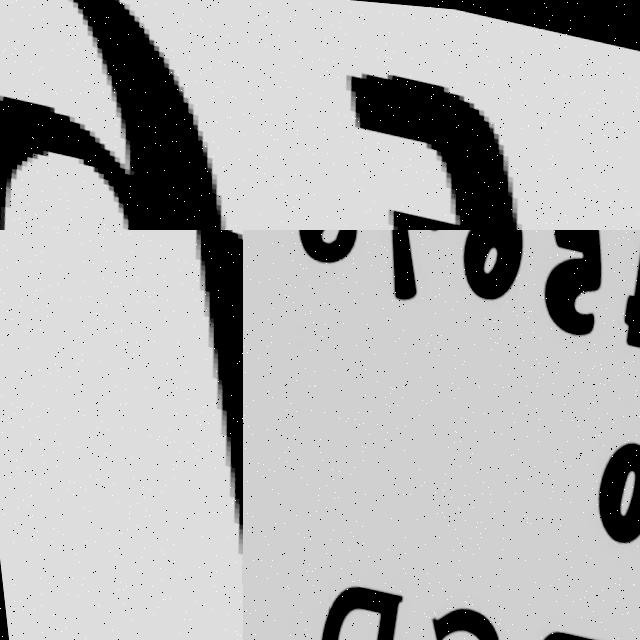0: (566, 401, 640, 555)
1: (94, 230, 243, 640)
4: (594, 230, 640, 364)
5: (518, 230, 631, 342)
6: (0, 0, 243, 230), (439, 230, 547, 305)
7: (351, 230, 470, 318)
8: (273, 230, 389, 279)
F: (275, 46, 640, 230)
